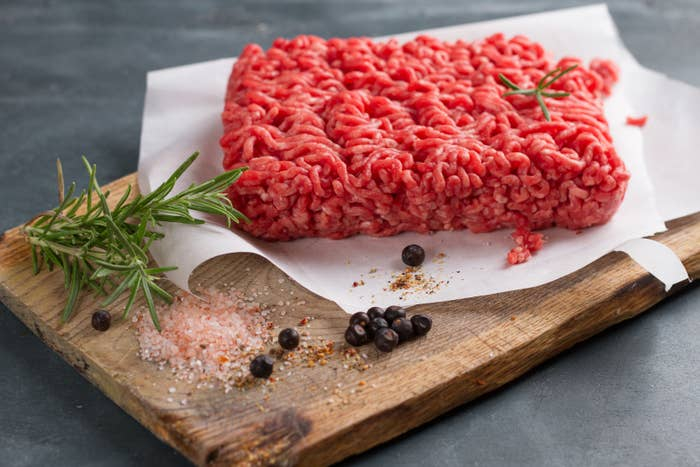ground_beef: (221, 33, 645, 243)
